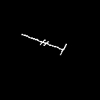treble_crochet: (22, 34, 66, 54)
